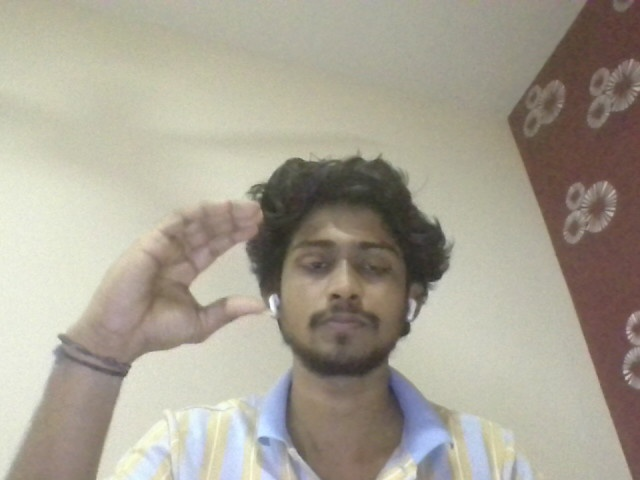No: (89, 197, 281, 358)
